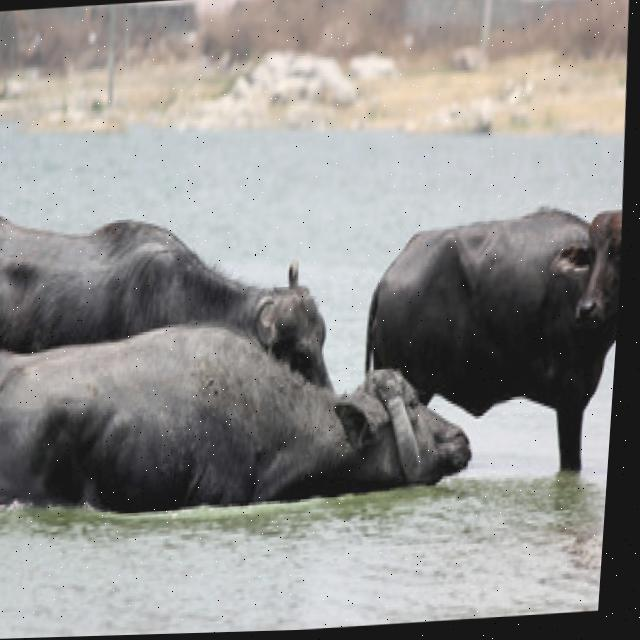Buffalo: (0, 291, 482, 523), (364, 206, 625, 422)
